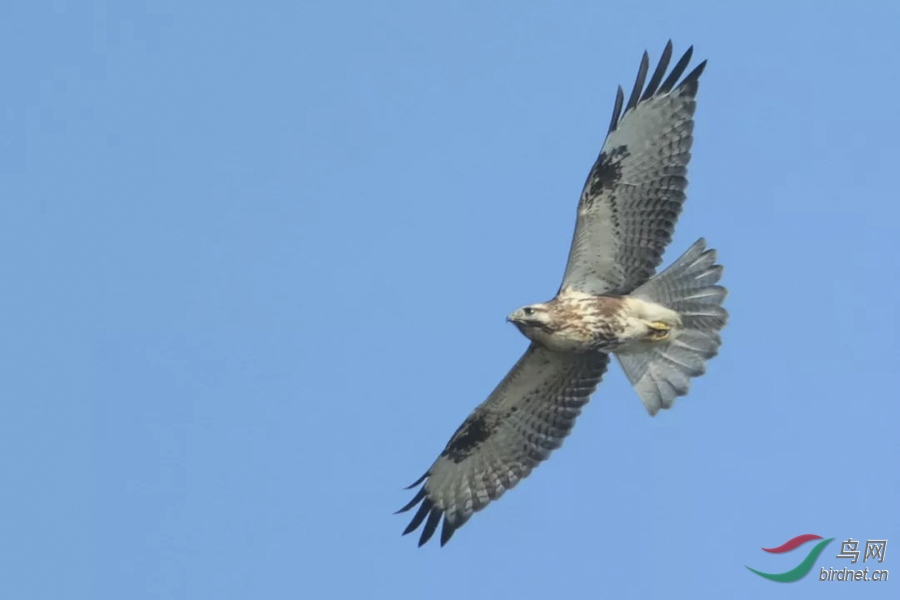bird: (384, 41, 731, 546)
